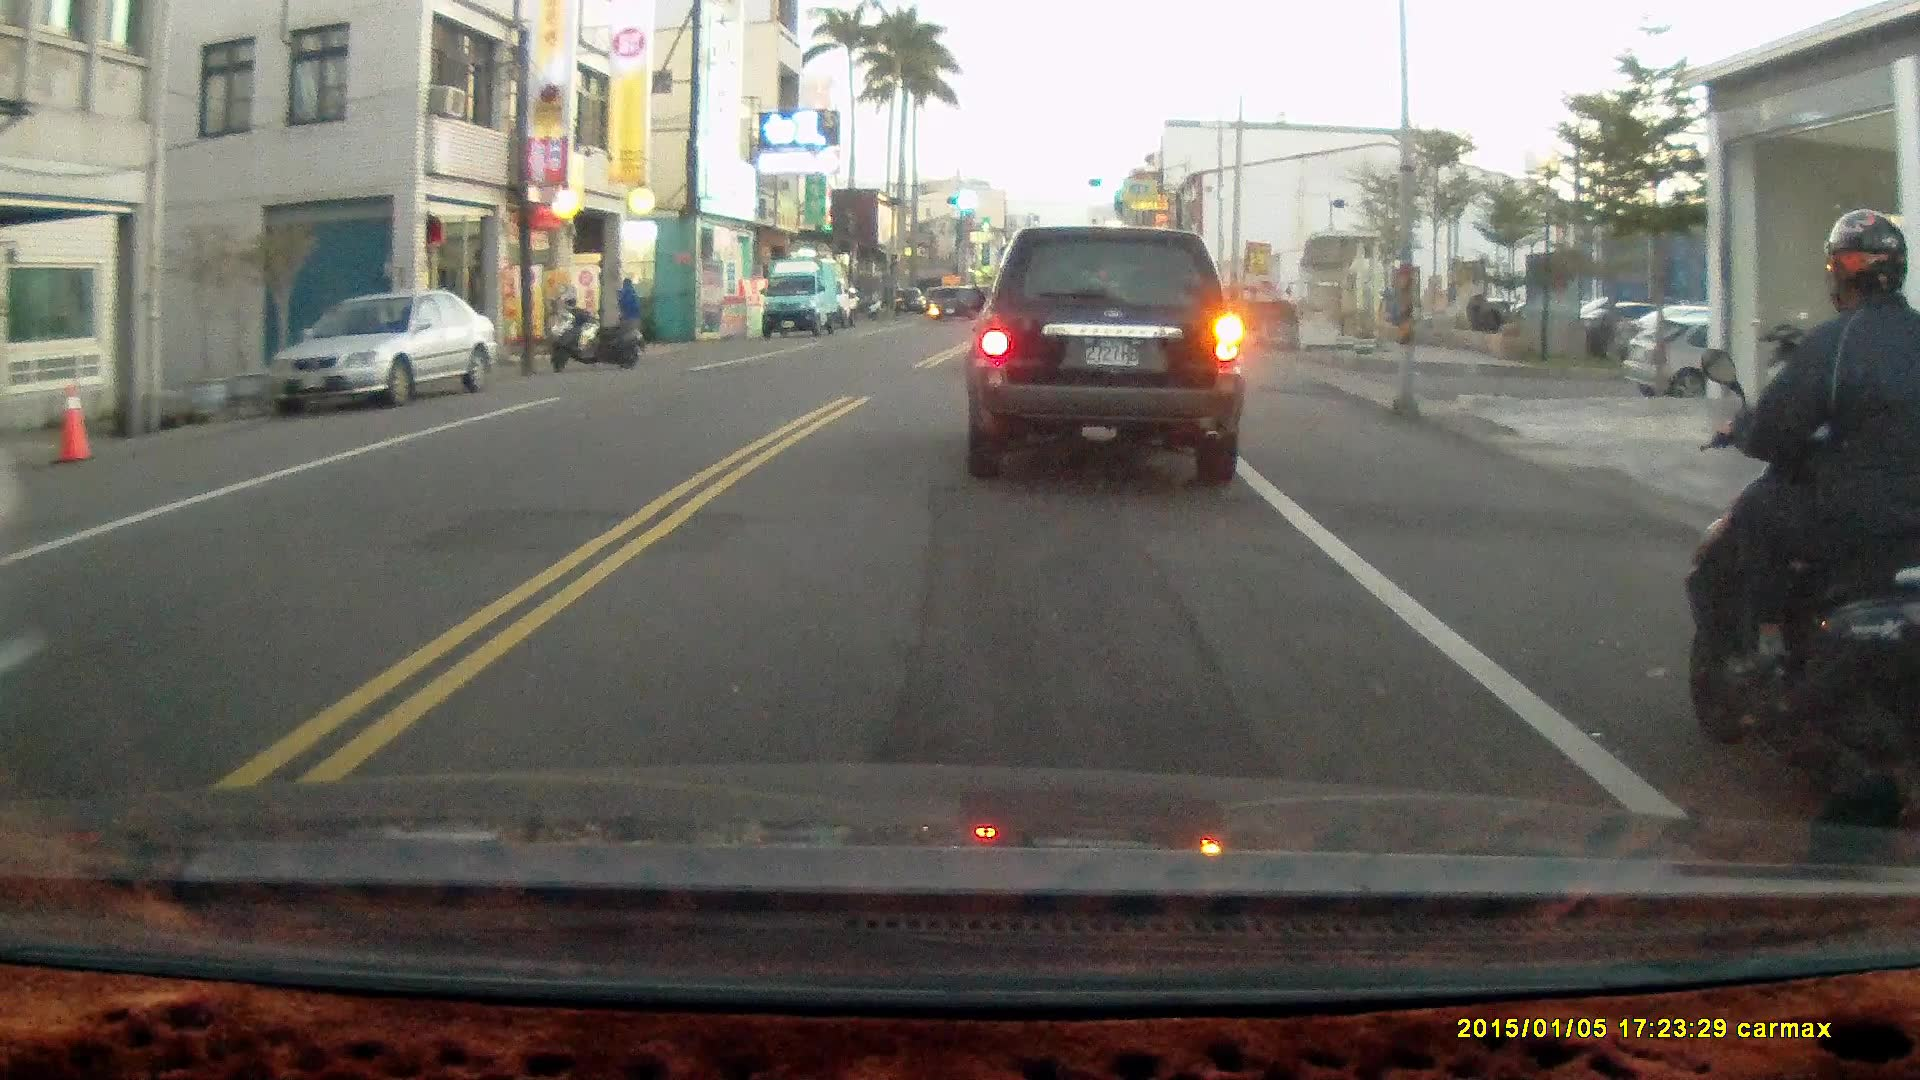pedestrian: (614, 273, 645, 357)
rider: (1673, 205, 1920, 853)
vehicle: (973, 223, 1249, 493), (267, 289, 498, 410), (1629, 317, 1851, 402), (761, 257, 845, 344)
